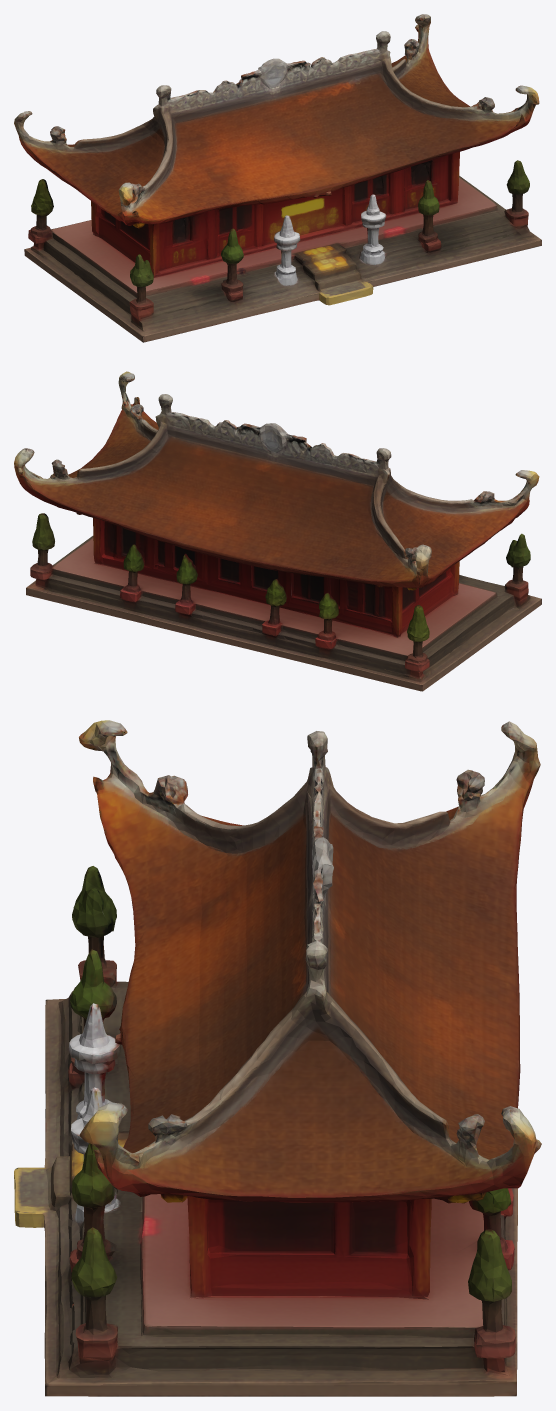
3 renders of one model, top to bottom at view 1: azimuth 30°, elevation 25°; view 2: azimuth 150°, elevation 25°; view 3: azimuth 270°, elevation 25°, orthographic. The views are drawn at different scales.
Parts seen in each view (by area): view 1: world; view 2: world; view 3: world.
Part boxes in pixels (x1,y1,x2,y2): world: [14, 14, 541, 342]; world: [14, 371, 541, 691]; world: [14, 720, 541, 1396].
Size of the model in its own units: 0.9984 by 0.4281 by 0.5562.
Materials: 1 (1 with a texture image).
